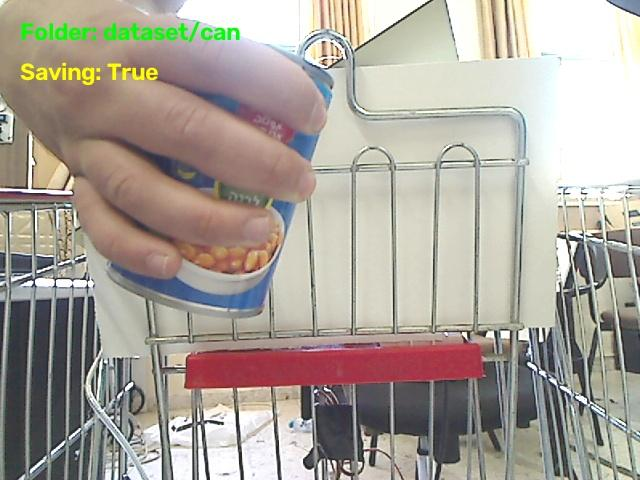can: (108, 157, 294, 317)
